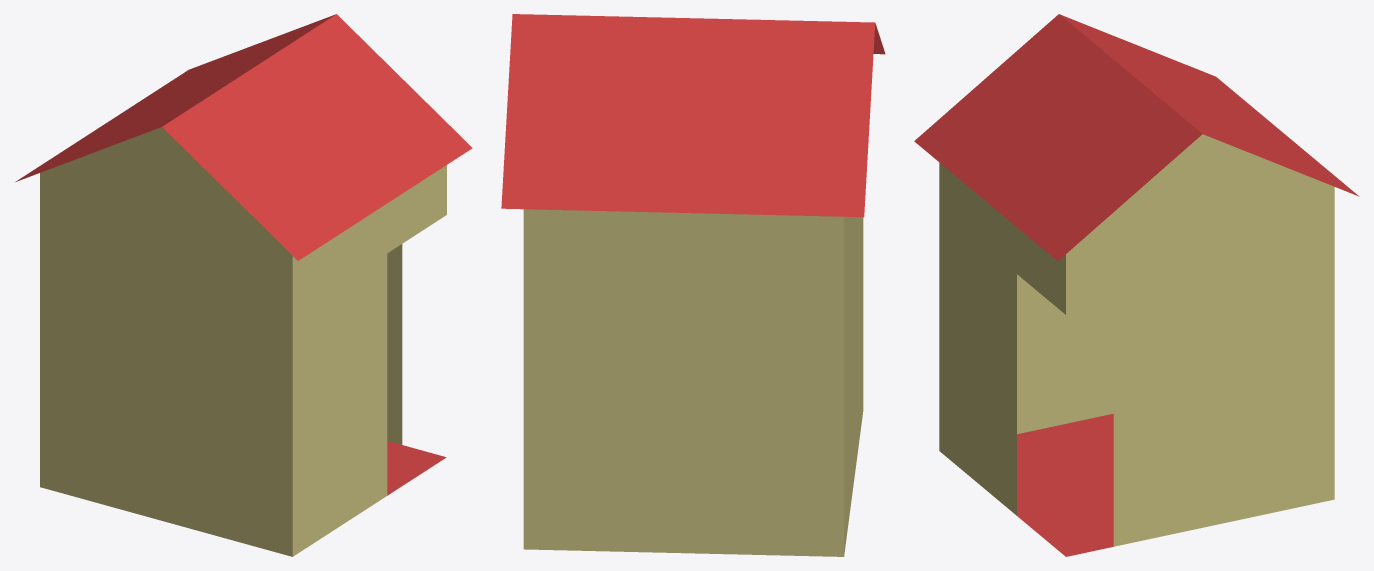
3 views of the same model, side by side, from view 1: azimuth 30°, elevation 25°; view 2: azimuth 150°, elevation 25°; view 3: azimuth 270°, elevation 25° (orthographic). The views are drawn at different scales.
Bounding box in the file's own units: 11.69 × 11.92 × 11.88.
